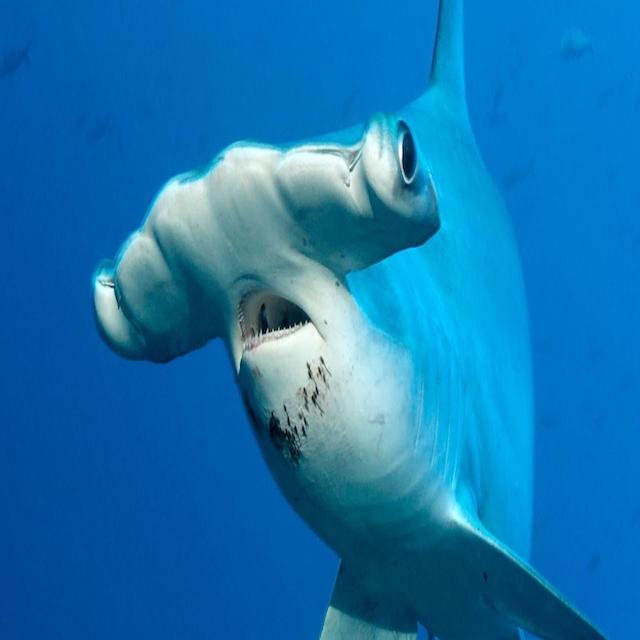hammerhead: (82, 111, 532, 449)
